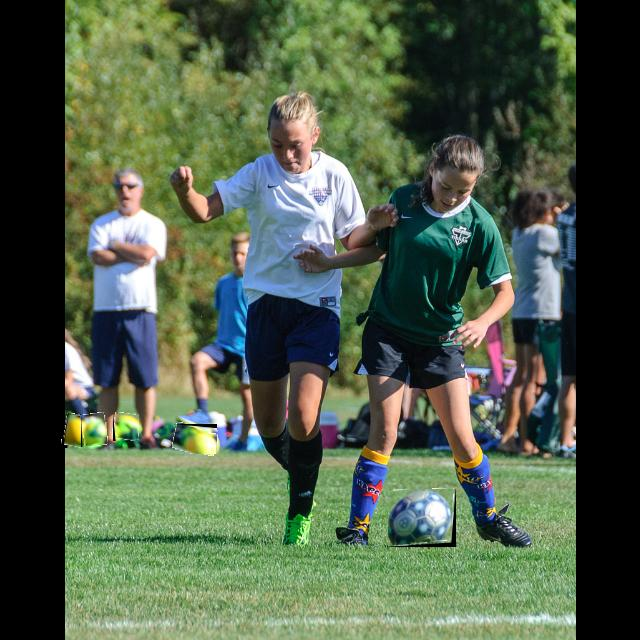Football: (388, 489, 456, 547), (173, 424, 217, 454), (62, 414, 88, 448), (81, 413, 107, 447), (113, 413, 139, 441)
